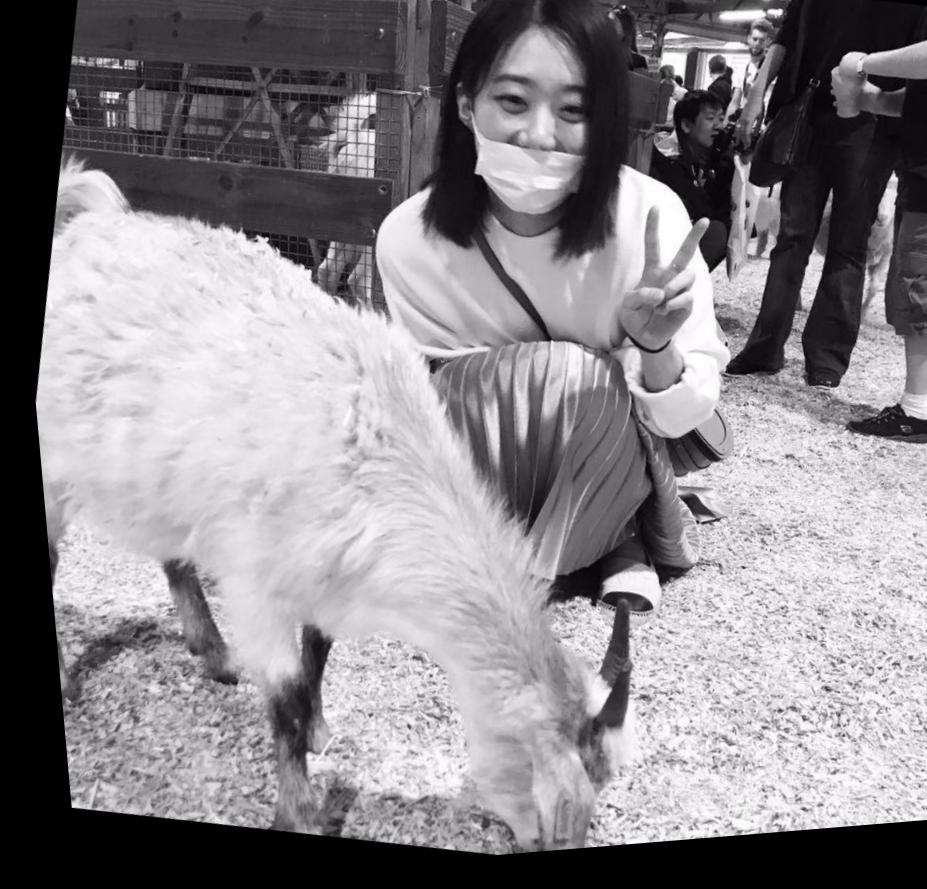NONE: (680, 114, 729, 162), (742, 45, 767, 70)
WRONG: (446, 51, 625, 239)
